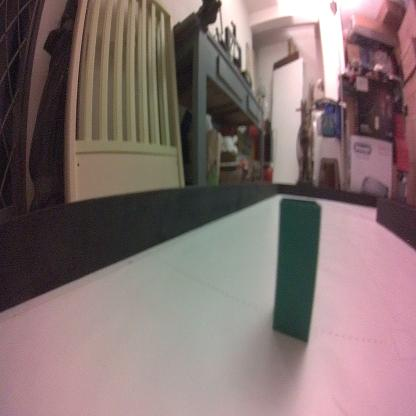green: (271, 198, 322, 350)
